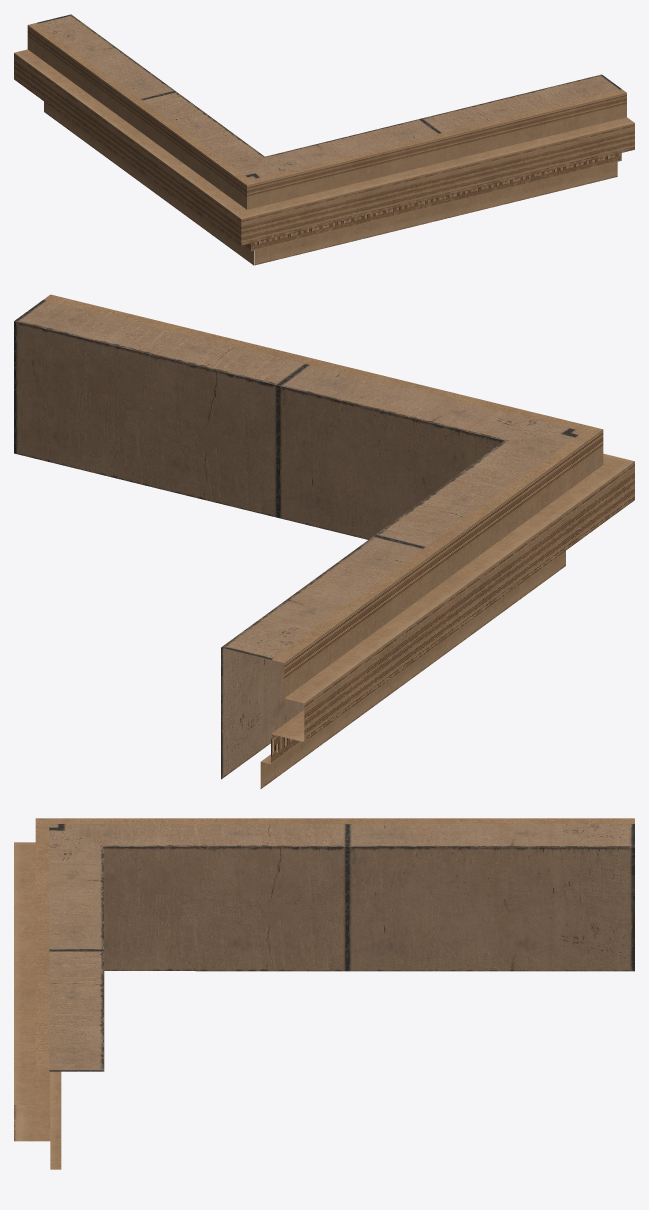
Rendered from House_01_Parapet_02.fbx.
3 renders of one model, top to bottom at view 1: azimuth 30°, elevation 25°; view 2: azimuth 150°, elevation 25°; view 3: azimuth 270°, elevation 25°, orthographic. The views are drawn at different scales.
Parts seen in each view (by area): view 1: House_01_Parapet_02; view 2: House_01_Parapet_02; view 3: House_01_Parapet_02.
Boxes of the visible parts, box(x1,y1,x2,y2) form: House_01_Parapet_02: box(14, 14, 634, 265); House_01_Parapet_02: box(14, 294, 634, 788); House_01_Parapet_02: box(14, 818, 634, 1169).
Size of the model in its own units: 433 by 95.54 by 433.
